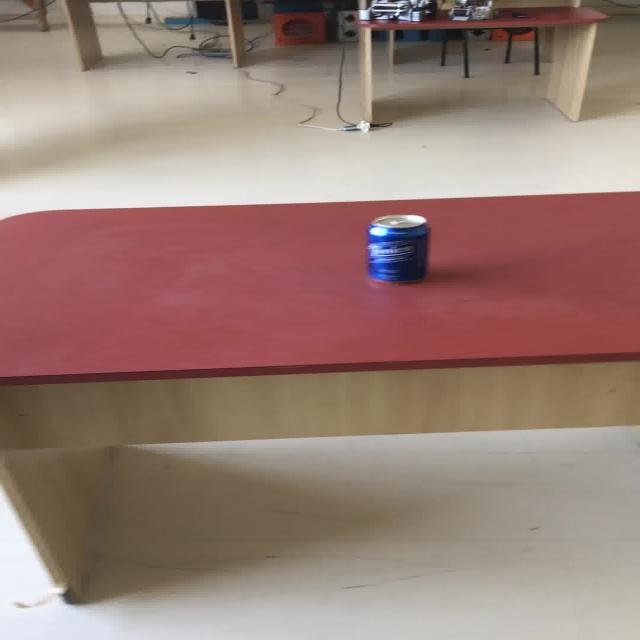tonic: (364, 213, 429, 282)
